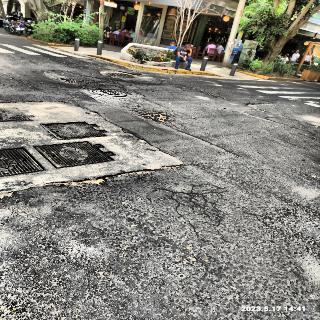alligator-crack: (156, 179, 237, 239), (131, 108, 182, 126), (122, 90, 136, 98)
pothole: (36, 164, 182, 186), (58, 78, 78, 85), (156, 114, 168, 122)
